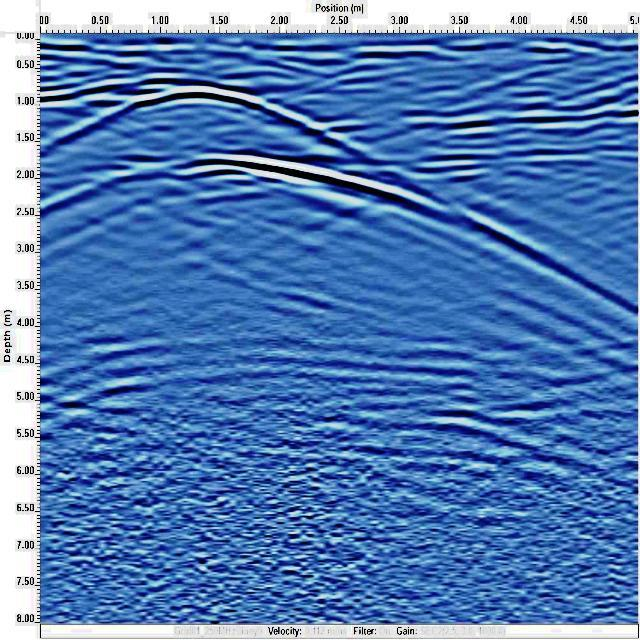hyperbola: (24, 154, 640, 326), (46, 64, 394, 168)
